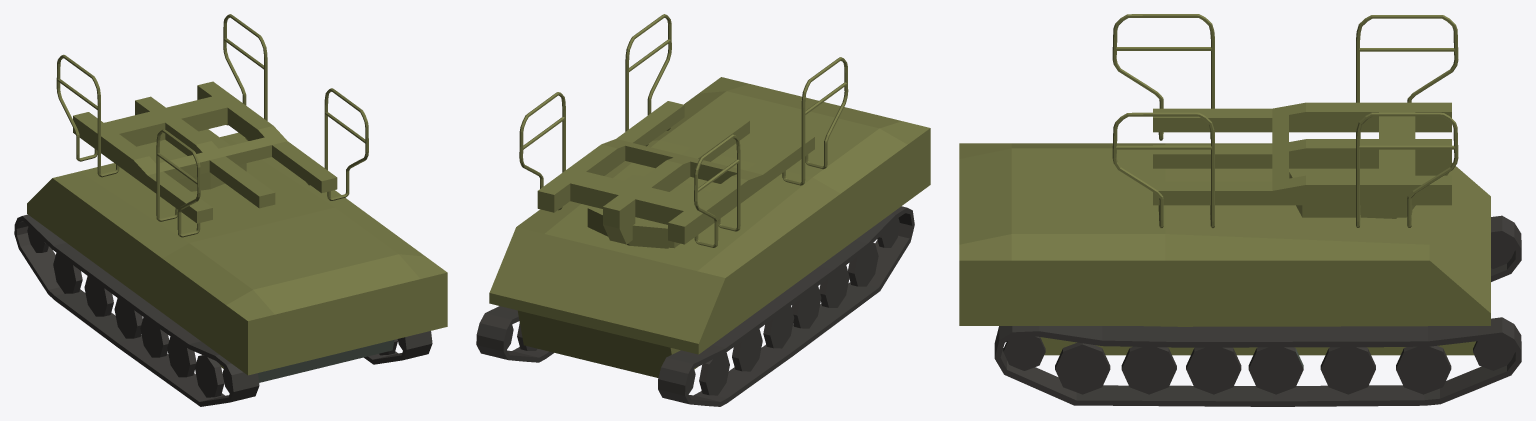
3 renders of one model, left to right at view 1: azimuth 30°, elevation 25°; view 2: azimuth 150°, elevation 25°; view 3: azimuth 270°, elevation 25°, orthographic. The views are drawn at different scales.
Visible parts, largest first — view 1: Chassis, Launcher, Turret; view 2: Chassis, Launcher, Turret; view 3: Chassis, Launcher, Turret.
Boxes of the visible parts, x1=… form: Chassis: x1=14, y1=132, x2=447, y2=406; Launcher: x1=56, y1=14, x2=368, y2=237; Turret: x1=137, y1=129, x2=246, y2=191; Chassis: x1=476, y1=77, x2=930, y2=406; Launcher: x1=519, y1=14, x2=848, y2=247; Turret: x1=587, y1=175, x2=709, y2=248; Chassis: x1=959, y1=143, x2=1521, y2=406; Launcher: x1=1112, y1=14, x2=1458, y2=228; Turret: x1=1289, y1=168, x2=1415, y2=218.
Size of the model in its own units: 2.82 by 3.2 by 5.72.
Materials: 2 (2 with a texture image).
